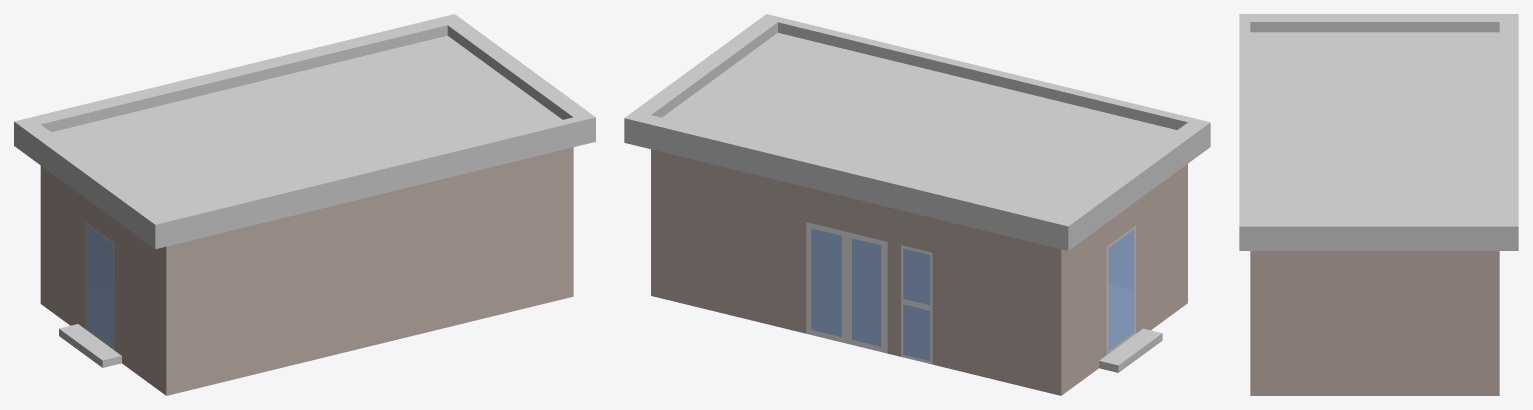
File: Nhà Bảo Vệ.fbx
The picture shows the model from 3 angles, left to right: view 1: azimuth 30°, elevation 25°; view 2: azimuth 150°, elevation 25°; view 3: azimuth 270°, elevation 25°; orthographic projection.
Visible parts, largest first — view 1: NhaBaoVe_LOD0; view 2: NhaBaoVe_LOD0; view 3: NhaBaoVe_LOD0.
Boxes of the visible parts, x1,y1,x2,y2 form: NhaBaoVe_LOD0: (14, 14, 595, 395); NhaBaoVe_LOD0: (624, 14, 1210, 395); NhaBaoVe_LOD0: (1239, 14, 1518, 395).
Size of what is drawn, in the model's own units: 166 by 64.09 by 91.47.
